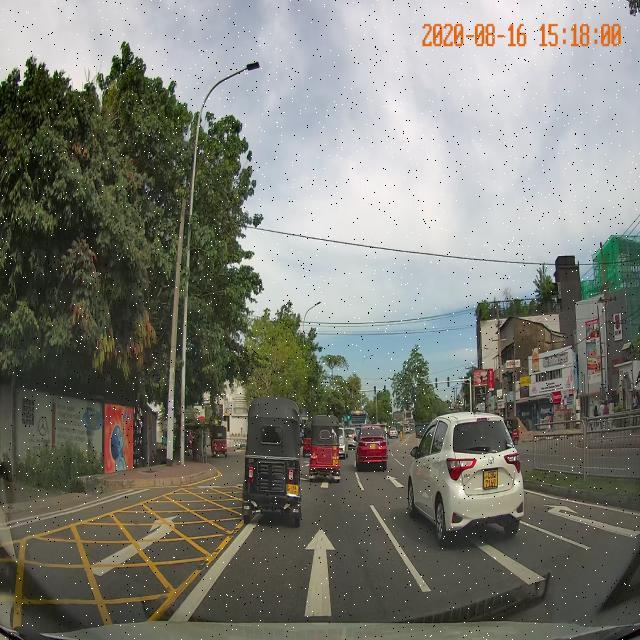forward: (169, 509, 454, 618)
